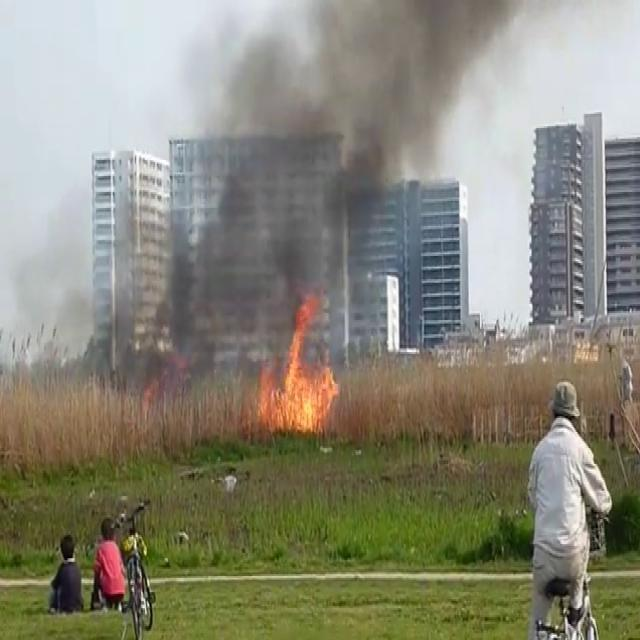Fire: (252, 296, 344, 442)
Smoke: (183, 0, 505, 257), (30, 188, 292, 408)
